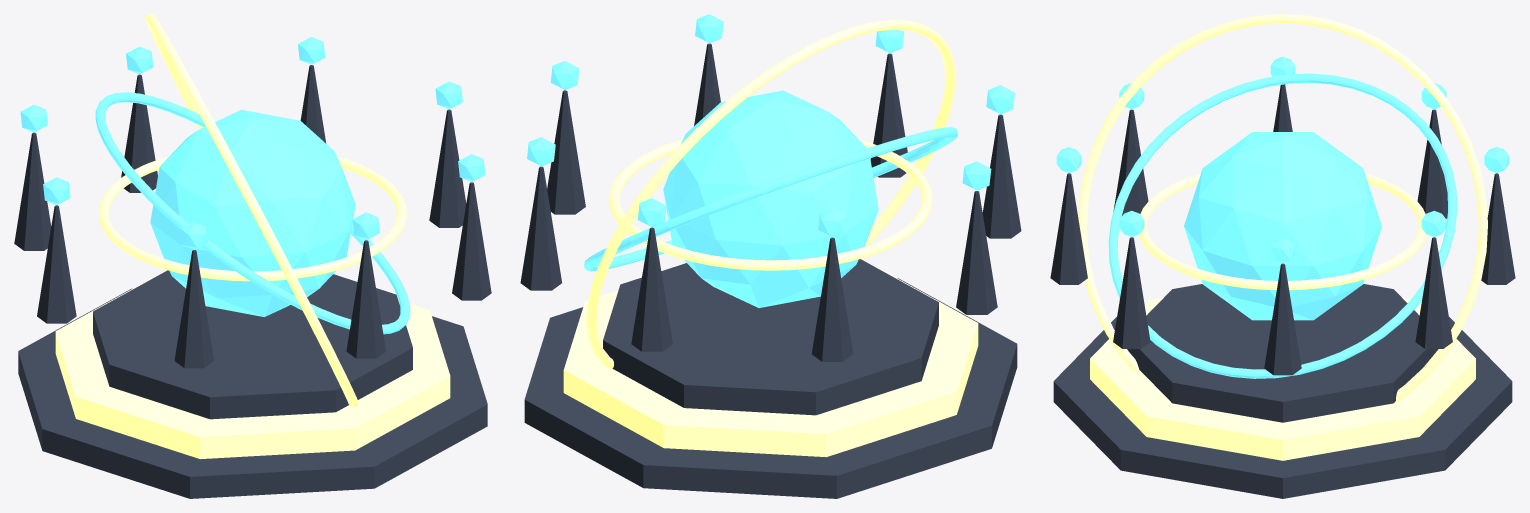
Rendered from gpu-blender-v44.glb.
The picture shows the model from 3 angles, left to right: view 1: azimuth 30°, elevation 25°; view 2: azimuth 150°, elevation 25°; view 3: azimuth 270°, elevation 25°; orthographic projection. The views are drawn at different scales.
Parts seen in each view (by area): view 1: Cylinder.002, SovereignCore_shodan-surface-sentinel, Cylinder, Cylinder.001, Torus.001, Torus.002, Torus, Cone.005, Cone.007, Cone.004, Cone.006, Cone (+11 smaller); view 2: Cylinder.002, SovereignCore_shodan-surface-sentinel, Cylinder, Cylinder.001, Torus.002, Torus.001, Torus, Cone.001, Cone.003, Cone.002, Cone.004, Cone (+11 smaller); view 3: SovereignCore_shodan-surface-sentinel, Cylinder.002, Cylinder, Cylinder.001, Torus.002, Torus.001, Torus, Cone, Cone.001, Cone.007, Cone.006, Cone.002 (+8 smaller).
Boxes of the visible parts, bbox=[...] form: Cylinder.002: bbox=[93, 270, 412, 419]; SovereignCore_shodan-surface-sentinel: bbox=[150, 109, 355, 316]; Cylinder: bbox=[18, 288, 487, 498]; Cylinder.001: bbox=[55, 278, 450, 458]; Torus.001: bbox=[95, 92, 410, 334]; Torus.002: bbox=[145, 14, 358, 407]; Torus: bbox=[99, 156, 406, 281]; Cone.005: bbox=[174, 250, 214, 368]; Cone.007: bbox=[452, 182, 491, 300]; Cone.004: bbox=[37, 205, 76, 323]; Cone.006: bbox=[346, 240, 385, 358]; Cone: bbox=[429, 109, 466, 227]; Cylinder.002: bbox=[603, 259, 938, 415]; SovereignCore_shodan-surface-sentinel: bbox=[663, 90, 878, 307]; Cylinder: bbox=[524, 278, 1017, 498]; Cylinder.001: bbox=[563, 268, 978, 457]; Torus.002: bbox=[586, 19, 955, 369]; Torus.001: bbox=[584, 127, 957, 271]; Torus: bbox=[609, 139, 932, 270]; Cone.001: bbox=[520, 166, 561, 290]; Cone.003: bbox=[811, 237, 853, 361]; Cone.002: bbox=[631, 227, 672, 351]; Cone.004: bbox=[956, 191, 997, 314]; Cone: bbox=[547, 90, 585, 214]; SovereignCore_shodan-surface-sentinel: bbox=[1184, 132, 1381, 320]; Cylinder.002: bbox=[1127, 284, 1438, 422]; Cylinder: bbox=[1053, 317, 1512, 498]; Cylinder.001: bbox=[1090, 298, 1475, 460]; Torus.002: bbox=[1078, 14, 1487, 402]; Torus.001: bbox=[1108, 73, 1457, 378]; Torus: bbox=[1139, 173, 1426, 290]; Cone: bbox=[1264, 263, 1301, 375]; Cone.001: bbox=[1415, 237, 1452, 348]; Cone.007: bbox=[1113, 237, 1150, 348]; Cone.006: bbox=[1050, 173, 1087, 284]; Cone.002: bbox=[1481, 173, 1515, 284].
Bounding box in the file's own units: 4.41 × 3.72 × 4.46.
